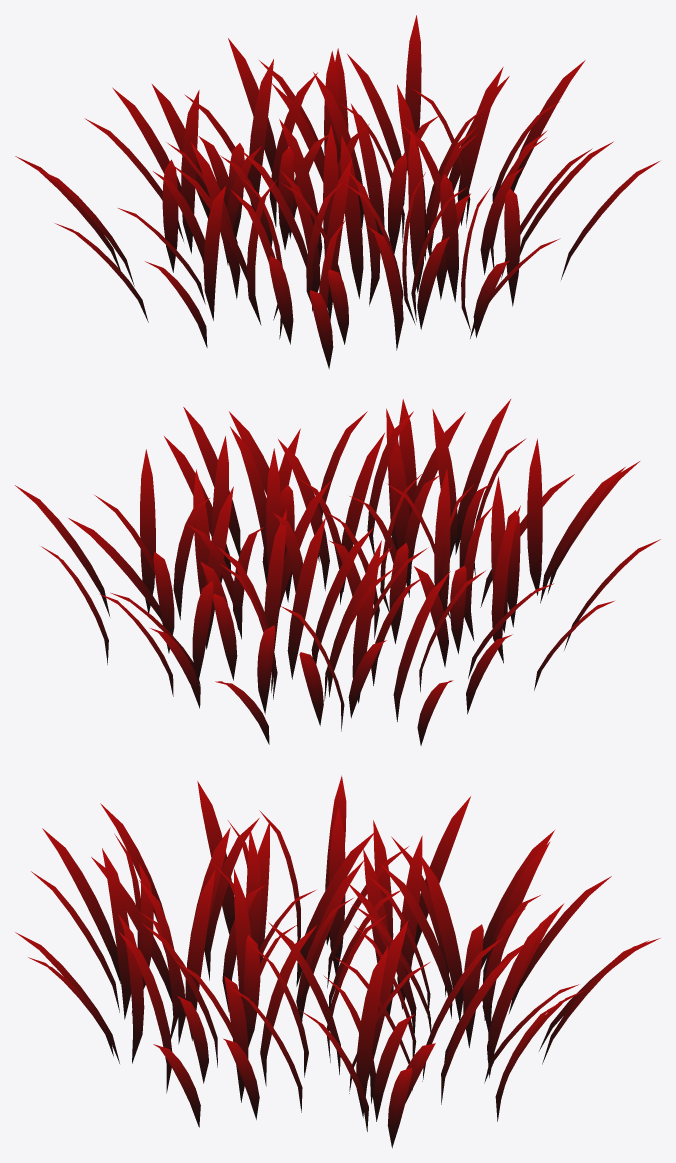
File: grass2.fbx
3 renders of one model, top to bottom at view 1: azimuth 30°, elevation 25°; view 2: azimuth 150°, elevation 25°; view 3: azimuth 270°, elevation 25°, orthographic. The views are drawn at different scales.
Visible parts, largest first — view 1: Plane.001; view 2: Plane.001; view 3: Plane.001.
Part boxes in pixels (x1,y1,x2,y2): Plane.001: [15, 15, 659, 369]; Plane.001: [15, 399, 660, 745]; Plane.001: [15, 775, 660, 1148].
Size of the model in its own units: 473 by 153 by 441.
